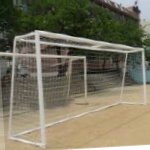goals: (6, 28, 149, 147)
